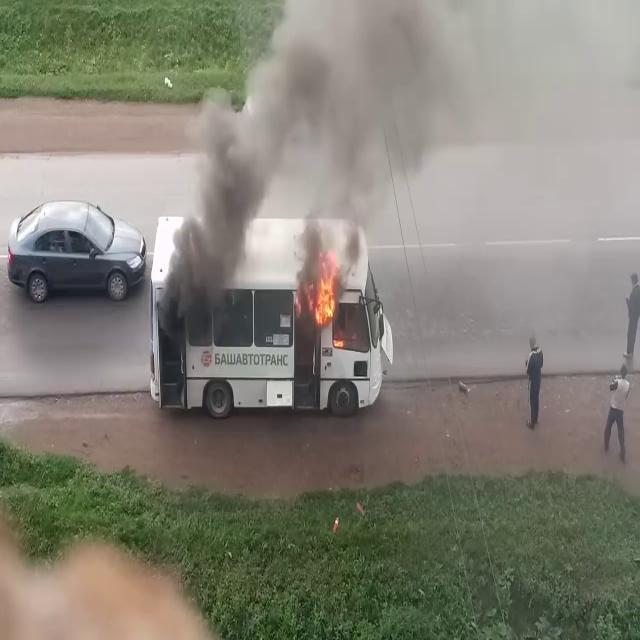Fire: (310, 259, 340, 329)
Smoke: (153, 0, 476, 304)
